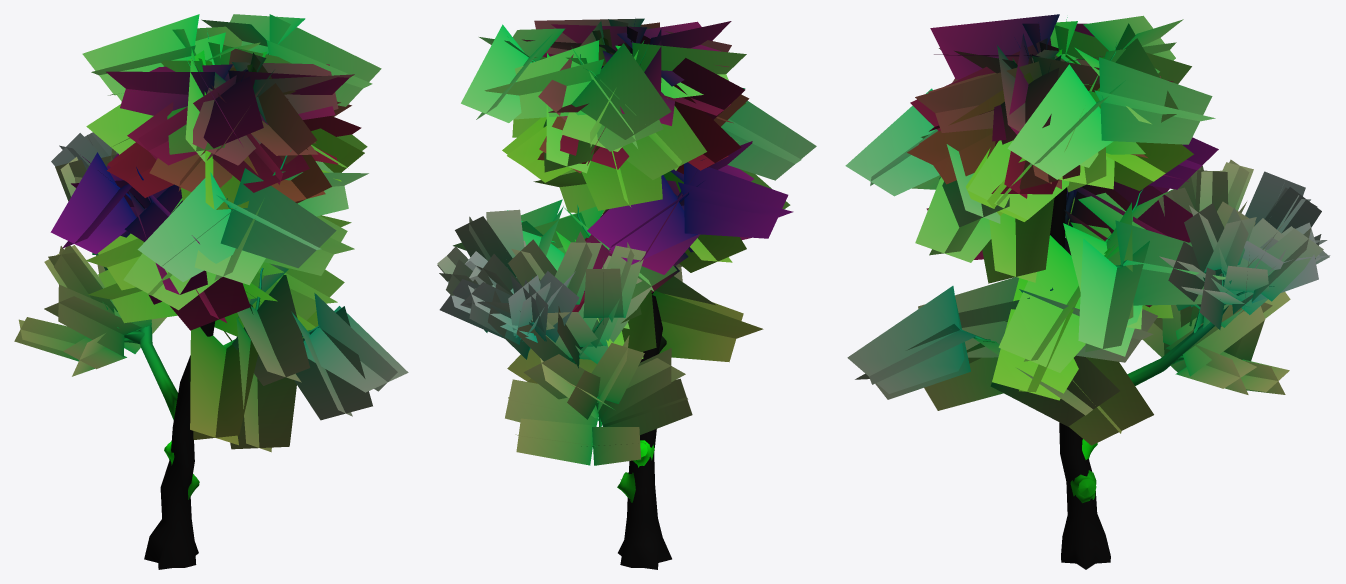
Rendered from M_Realistic7_1.fbx.
3 views of the same model, side by side, from view 1: azimuth 30°, elevation 25°; view 2: azimuth 150°, elevation 25°; view 3: azimuth 270°, elevation 25° (orthographic). The views are drawn at different scales.
Parts seen in each view (by area): view 1: Tree_1; view 2: Tree_1; view 3: Tree_1.
Part boxes in pixels (x1,y1,x2,y2): Tree_1: (14, 14, 408, 569); Tree_1: (437, 18, 816, 569); Tree_1: (845, 14, 1330, 569).
Bounding box in the file's own units: 1066 × 1624 × 1304.
